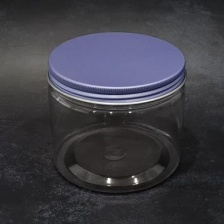plastic_box: (39, 26, 192, 201)
